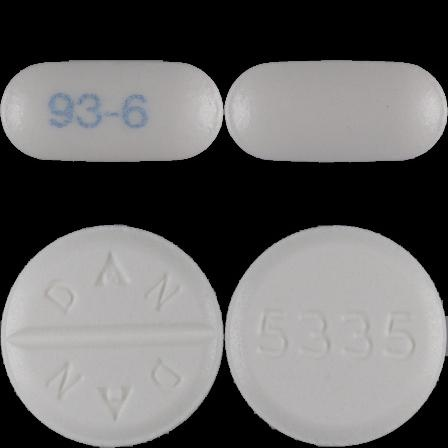61786-750: (0, 0, 224, 224)
